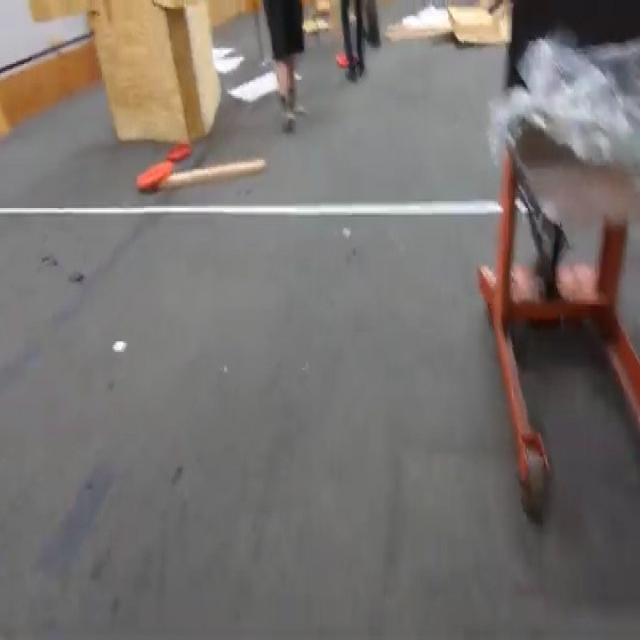note: (134, 156, 174, 200)
